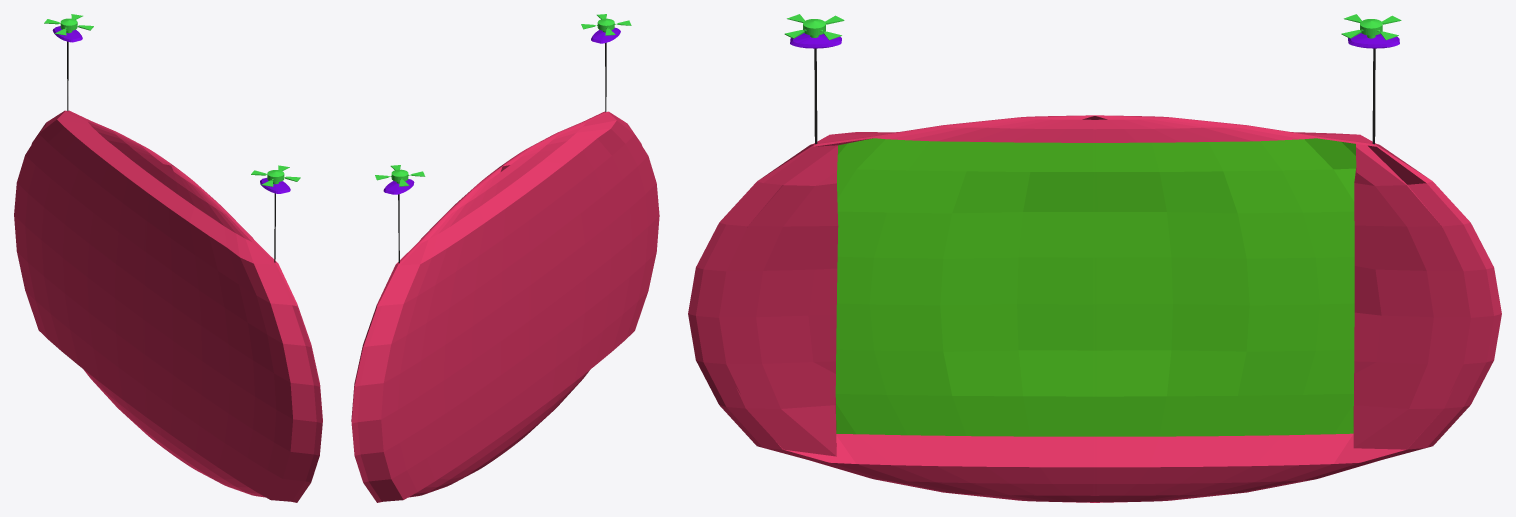
Rendered from moldura (1).fbx.
The picture shows the model from 3 angles, left to right: view 1: azimuth 30°, elevation 25°; view 2: azimuth 150°, elevation 25°; view 3: azimuth 270°, elevation 25°; orthographic projection. The views are drawn at different scales.
Visible parts, largest first — view 1: Sphere, Cylinder, Cylinder.001; view 2: Sphere, Cylinder.001, Cylinder; view 3: Sphere.
Part boxes in pixels (bbox=[...]): Sphere: bbox=[14, 26, 322, 502]; Cylinder: bbox=[251, 165, 300, 186]; Cylinder.001: bbox=[44, 14, 93, 35]; Sphere: bbox=[351, 27, 659, 502]; Cylinder.001: bbox=[375, 165, 425, 186]; Cylinder: bbox=[581, 14, 631, 35]; Sphere: bbox=[688, 33, 1501, 502].
Size of the model in its own units: 120 by 857 by 1312.
